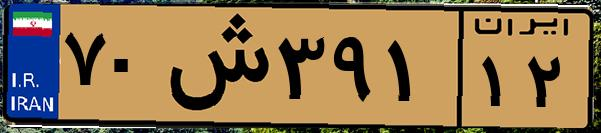0: (110, 28, 158, 98)
1: (385, 28, 445, 110), (475, 38, 525, 113)
2: (525, 38, 570, 115)
3: (270, 28, 330, 110)
7: (57, 26, 110, 100)
9: (330, 28, 385, 110)
ش: (158, 12, 270, 120)
